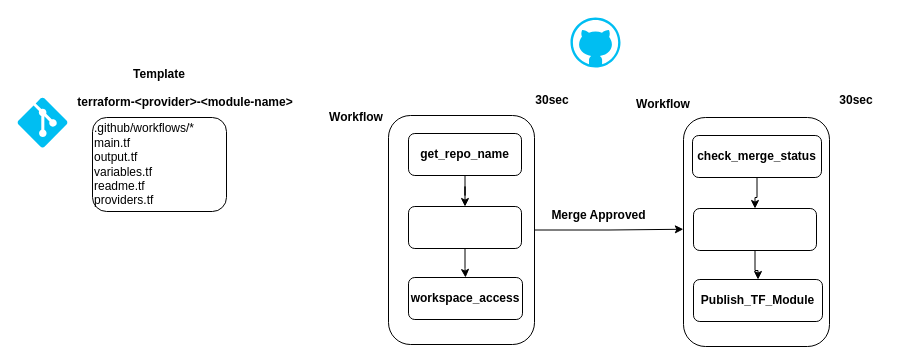
Some shapes in this 903 by 364 pixel diagram are drawn without their labels. Each missing label, with the centre of its shape:
"Add_New_Tag" belongs at point (754, 229).
"create_workspace" belongs at point (465, 227).
